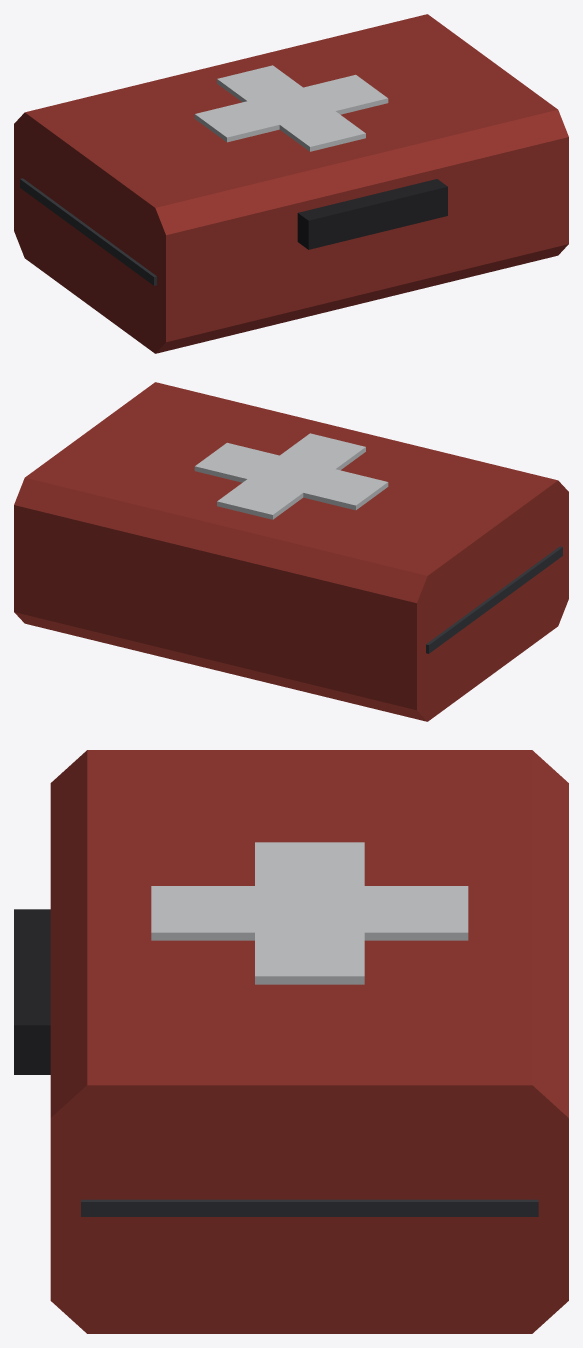
Rendered from medkit.glb.
The picture shows the model from 3 angles, top to bottom: view 1: azimuth 30°, elevation 25°; view 2: azimuth 150°, elevation 25°; view 3: azimuth 270°, elevation 25°; orthographic projection. The views are drawn at different scales.
Visible parts, largest first — view 1: Item; view 2: Item; view 3: Item.
Boxes of the visible parts, bbox=[...] form: Item: bbox=[14, 14, 568, 353]; Item: bbox=[14, 382, 568, 721]; Item: bbox=[14, 750, 568, 1333].
Size of the model in its own units: 0.3432 by 0.1209 by 0.2366.
